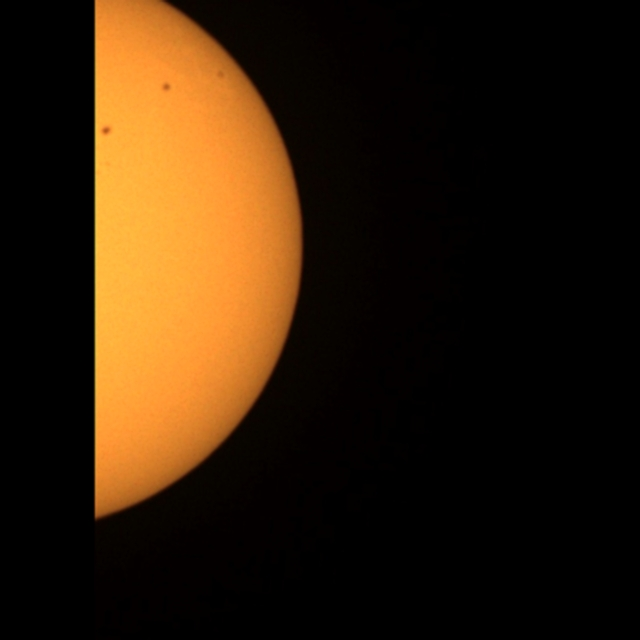sunspot: (99, 124, 113, 137), (160, 81, 172, 94), (215, 69, 226, 81)
